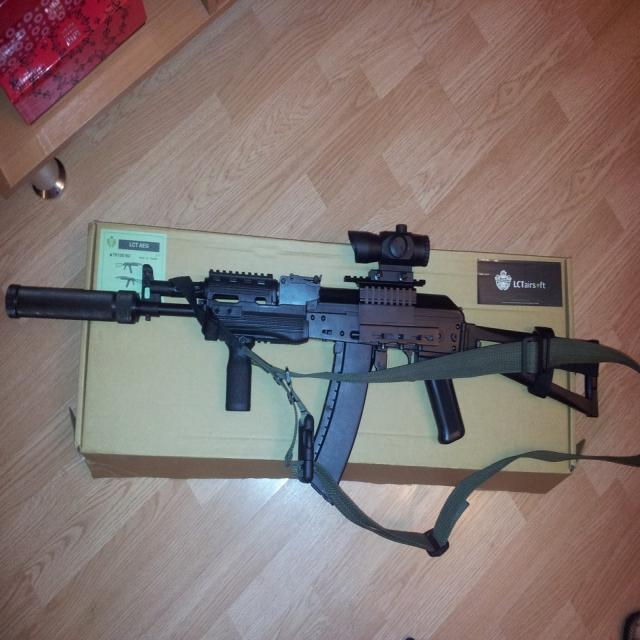firearm: (6, 224, 603, 501)
